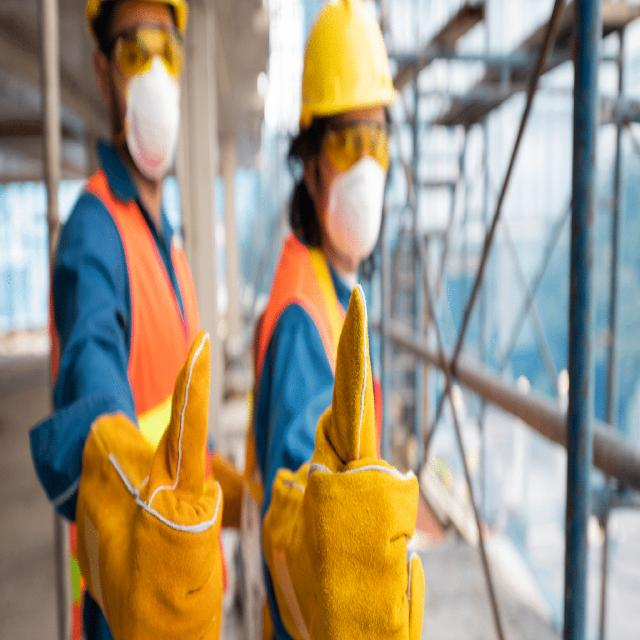Gloves: (51, 269, 489, 640)
Protective Glasses: (294, 105, 408, 186), (89, 1, 193, 80)
Vest: (56, 147, 246, 358), (254, 210, 330, 442)
